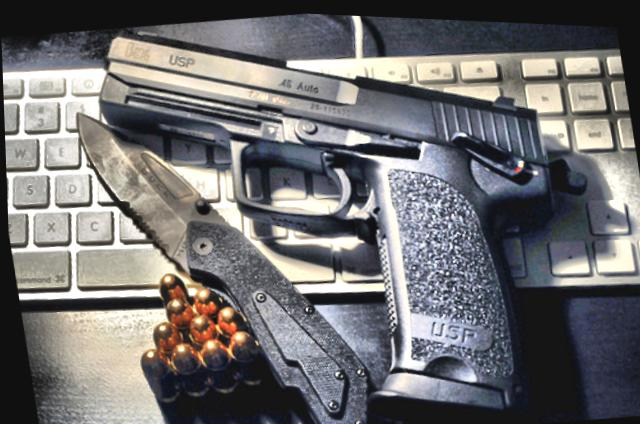pistol: (81, 3, 583, 424)
